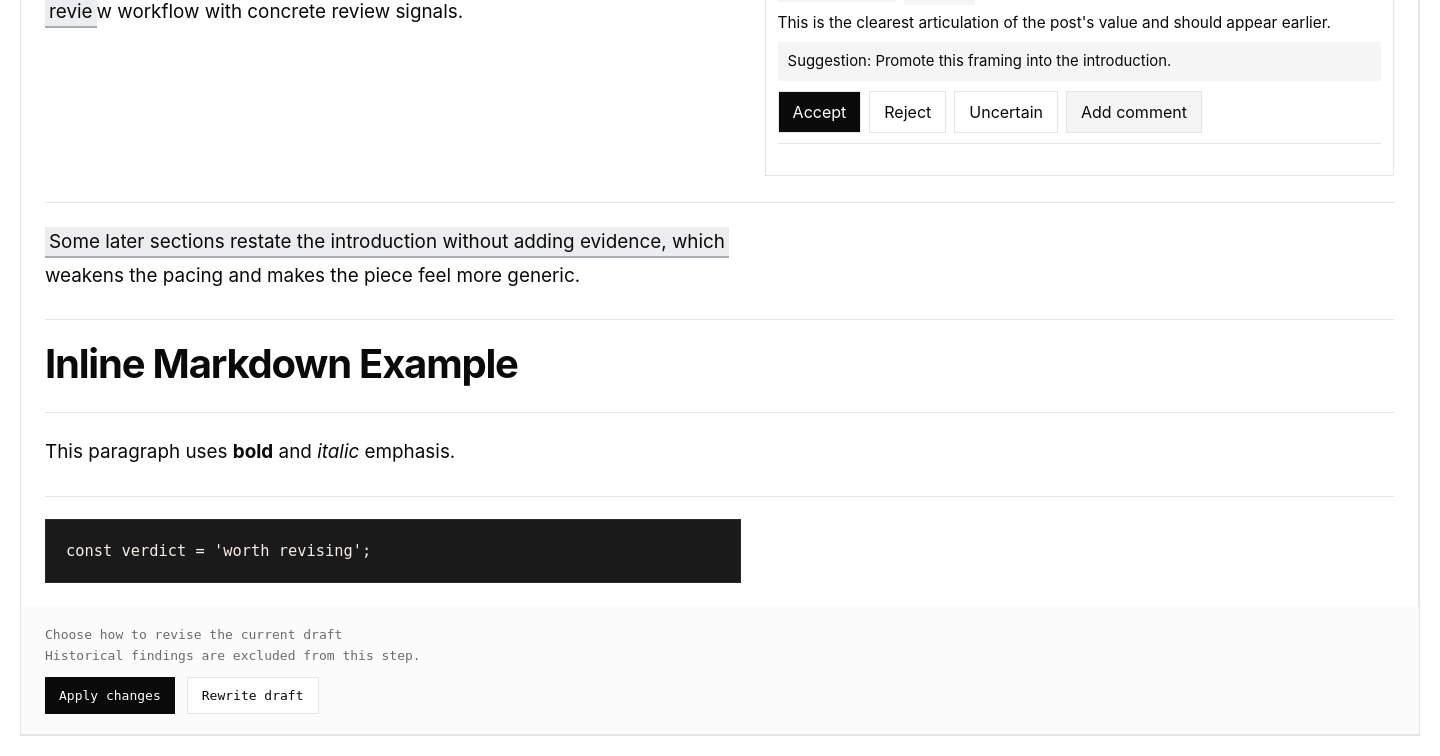
Test: ReviewWorkbench › shows a local error when revised-markdown generation fails
(page scrolled)
Click the button with test id "apply-changes-button-bottom": (110, 695) [45, 677, 175, 714]
(page scrolled)
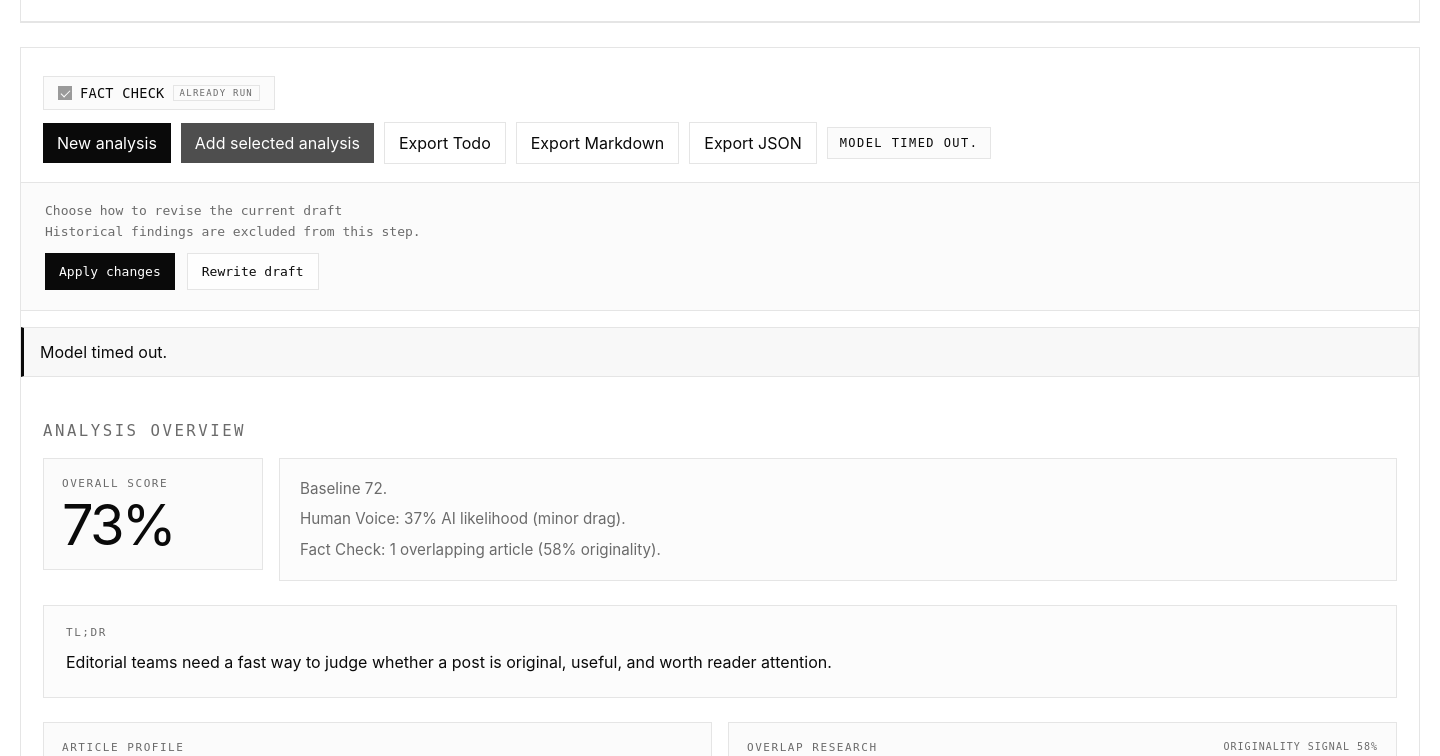
Expected: the message with test id "revised-markdown-local-error" reads "Model timed out.", [40, 342, 167, 362]
